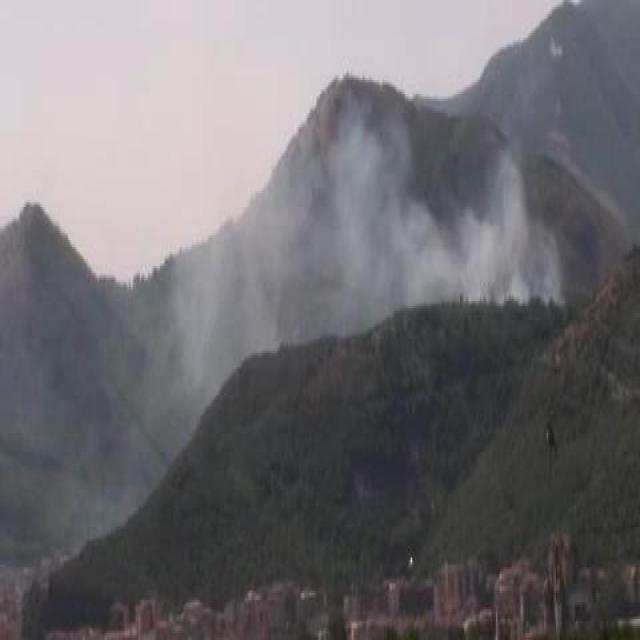Smoke: (331, 94, 537, 315)
